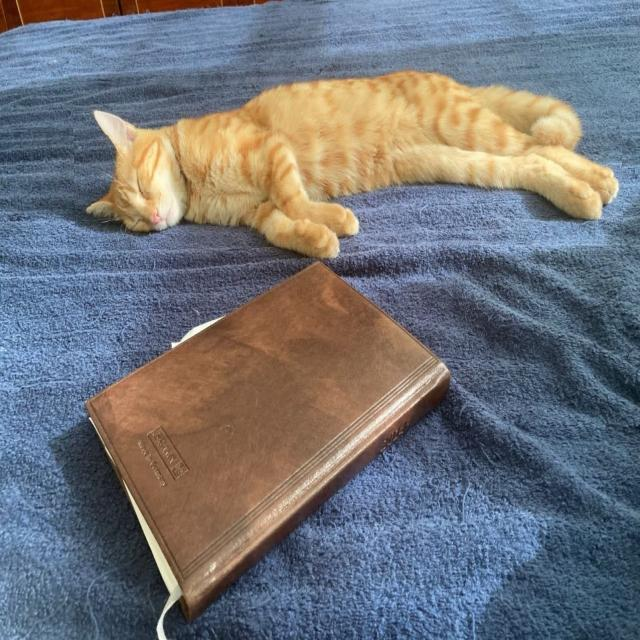red_cat: (73, 75, 622, 248)
